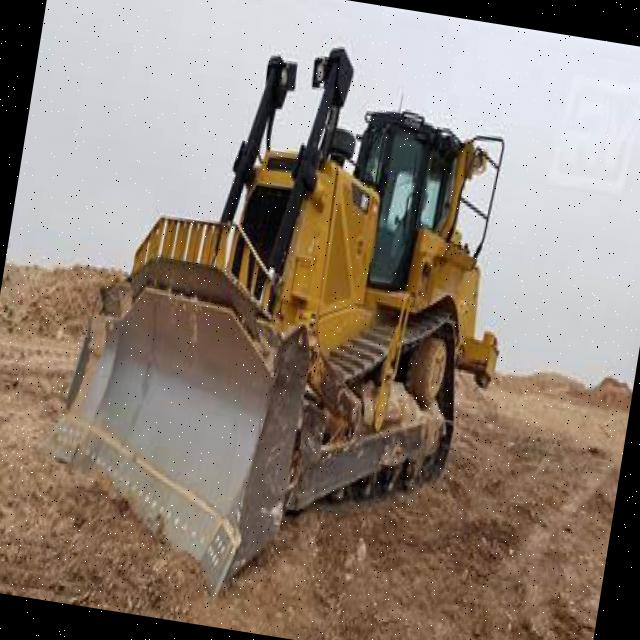Bulldozer: (19, 0, 577, 621)
